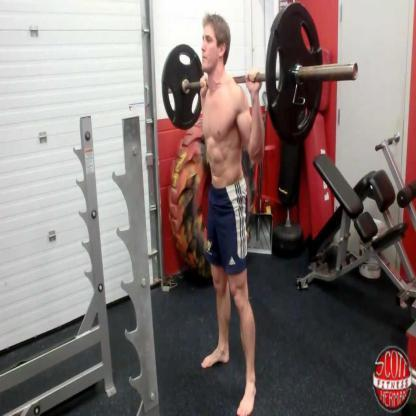Barbell: (352, 60, 361, 84)
